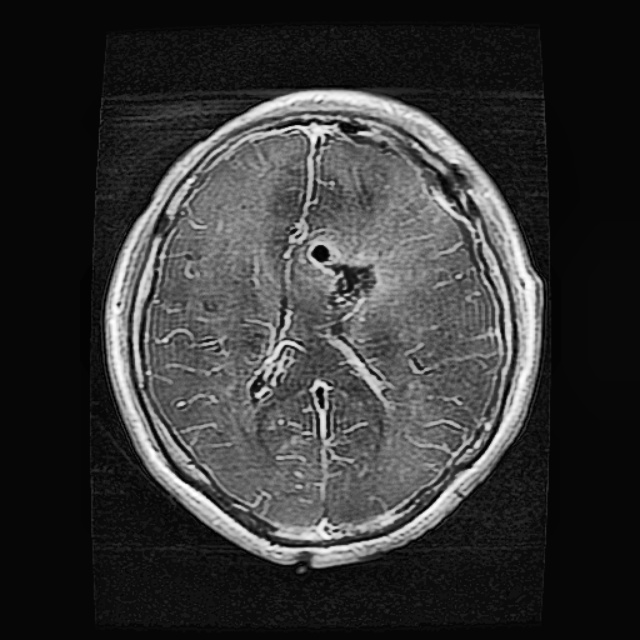Pituitary: (330, 262, 374, 307)
